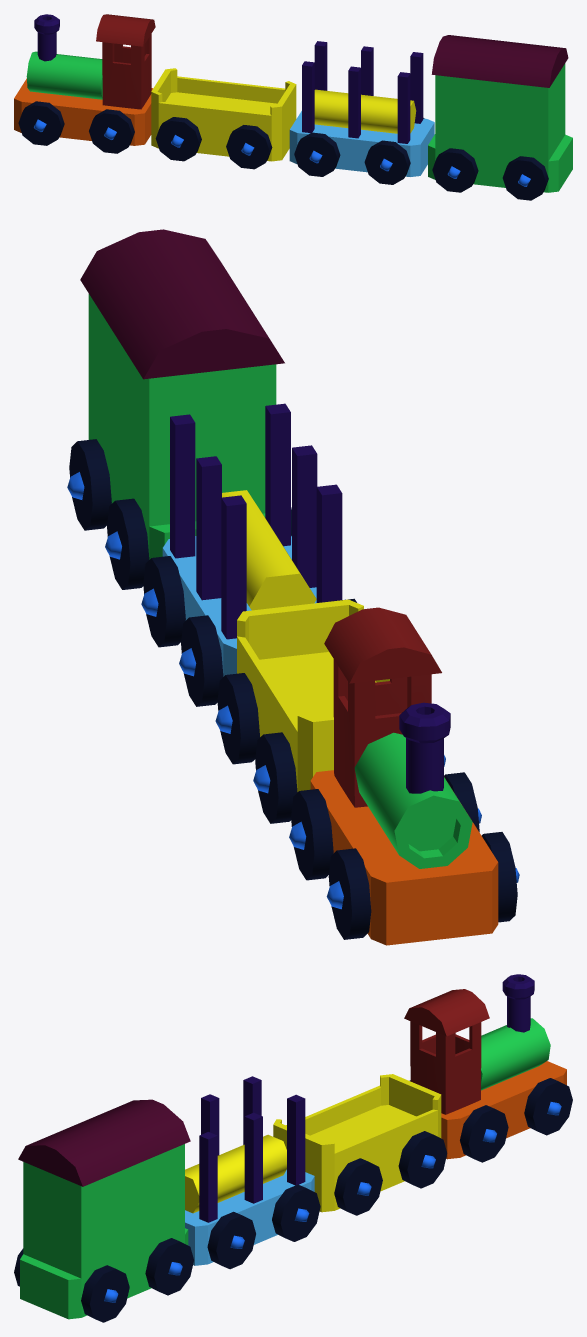
The model's file is Bedroom_Toytrain.FBX.
3 views of the same model, one above another, from view 1: azimuth 30°, elevation 25°; view 2: azimuth 150°, elevation 25°; view 3: azimuth 270°, elevation 25° (orthographic). The views are drawn at different scales.
Parts seen in each view (by area): view 1: Room_Toytrain; view 2: Room_Toytrain; view 3: Room_Toytrain.
Boxes of the visible parts, <box> form: Room_Toytrain: <box>14,14,572,200</box>; Room_Toytrain: <box>67,229,519,945</box>; Room_Toytrain: <box>14,974,572,1322</box>.
Size of the model in its own units: 28.19 by 9.22 by 28.19.
